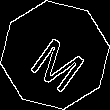M_NE: (22, 21, 88, 89)
